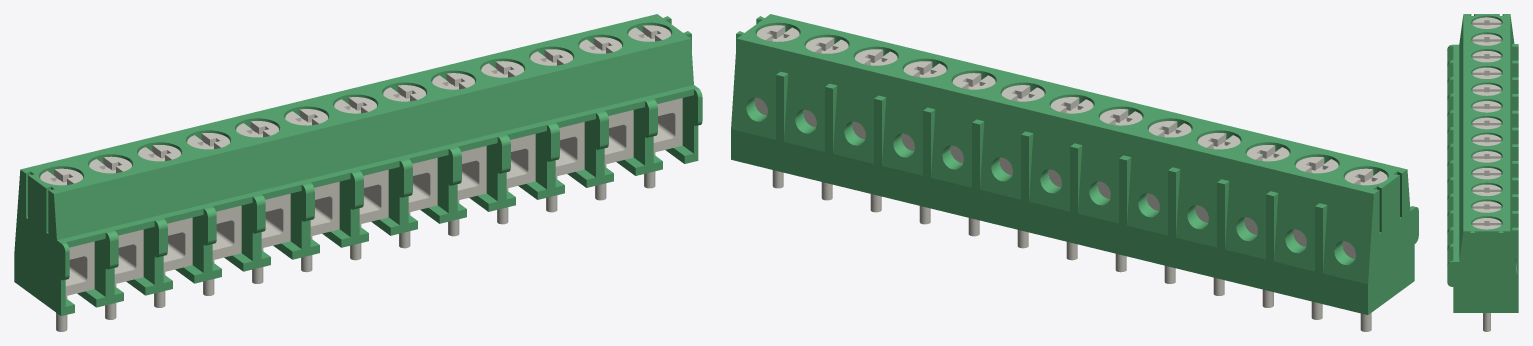
File: kc-terminalblock_phoenix_pt-1_5-13-5.0-h_1x13_p5.00mm_horizontal.glb
3 views of the same model, side by side, from view 1: azimuth 30°, elevation 25°; view 2: azimuth 150°, elevation 25°; view 3: azimuth 270°, elevation 25° (orthographic). The views are drawn at different scales.
Visible parts, largest first — view 1: 0.08333333333333333_0.4166666666666667_0.16666666666666666_0, 0.6666666666666666_0.6666666666666666_0.5833333333333334_0.8; view 2: 0.08333333333333333_0.4166666666666667_0.16666666666666666_0, 0.6666666666666666_0.6666666666666666_0.5833333333333334_0.8; view 3: 0.08333333333333333_0.4166666666666667_0.16666666666666666_0, 0.6666666666666666_0.6666666666666666_0.5833333333333334_0.8.
Boxes of the visible parts, <box> form: 0.08333333333333333_0.4166666666666667_0.16666666666666666_0: <box>14,14,702,316</box>; 0.6666666666666666_0.6666666666666666_0.5833333333333334_0.8: <box>40,25,682,331</box>; 0.08333333333333333_0.4166666666666667_0.16666666666666666_0: <box>731,14,1418,314</box>; 0.6666666666666666_0.6666666666666666_0.5833333333333334_0.8: <box>754,25,1387,331</box>; 0.08333333333333333_0.4166666666666667_0.16666666666666666_0: <box>1447,14,1518,312</box>; 0.6666666666666666_0.6666666666666666_0.5833333333333334_0.8: <box>1472,17,1501,331</box>.
Bounding box in the file's own units: 6.56 × 1.5 × 0.8997.
